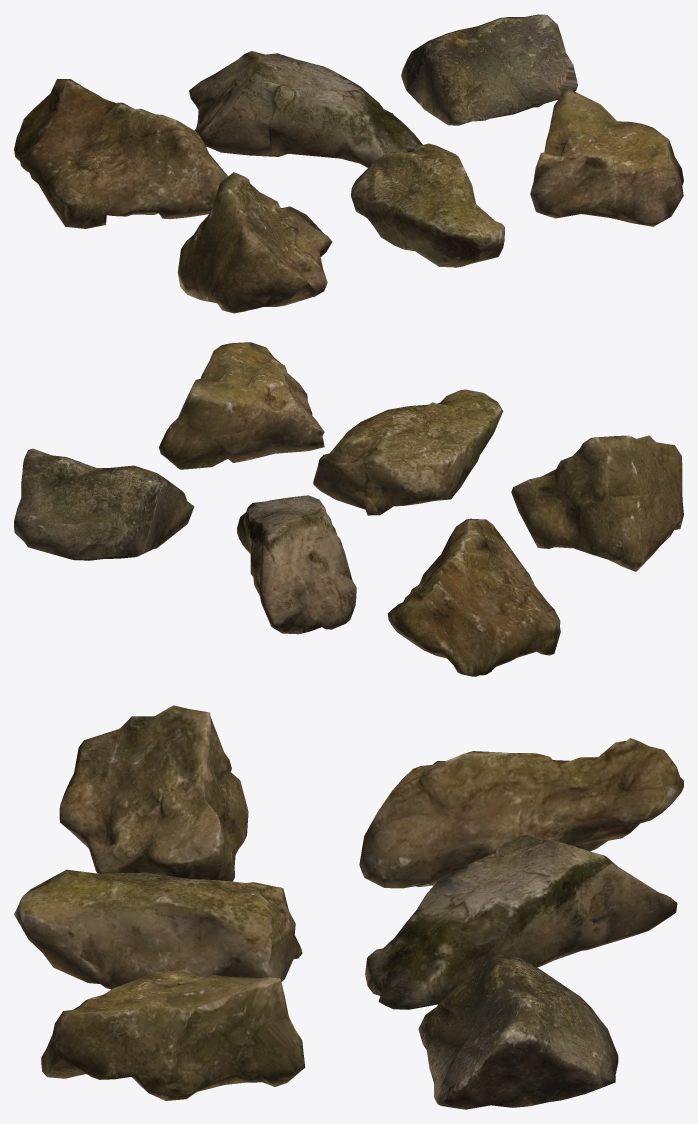
File: rock_moss_set_01.glb
3 renders of one model, top to bottom at view 1: azimuth 30°, elevation 25°; view 2: azimuth 150°, elevation 25°; view 3: azimuth 270°, elevation 25°, orthographic. The views are drawn at different scales.
Parts seen in each view (by area): view 1: rock_moss_set_01_rock01; view 2: rock_moss_set_01_rock01; view 3: rock_moss_set_01_rock01.
Part boxes in pixels (x1=…): rock_moss_set_01_rock01: x1=14, y1=14, x2=683, y2=313; rock_moss_set_01_rock01: x1=14, y1=342, x2=683, y2=676; rock_moss_set_01_rock01: x1=14, y1=705, x2=683, y2=1109.
Bounding box in the file's own units: 8 × 1.76 × 6.94.
Materials: 1 (1 with a texture image).
